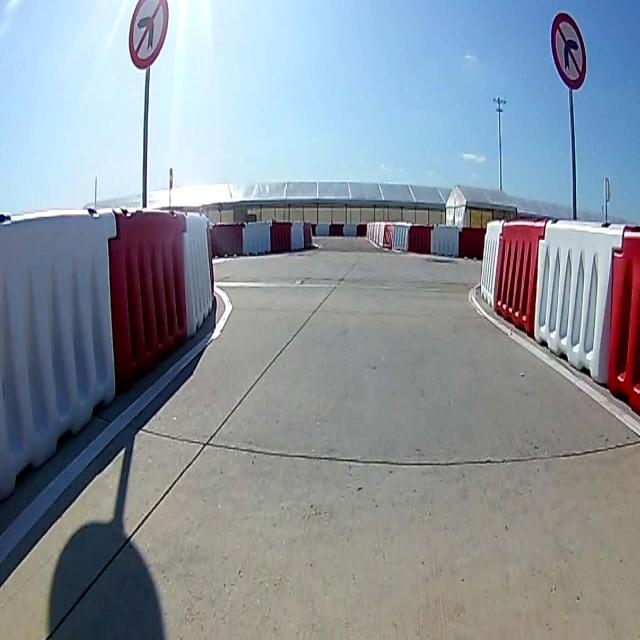sagadonulmez: (550, 13, 588, 89)
soladonulmez: (129, 1, 168, 66)
